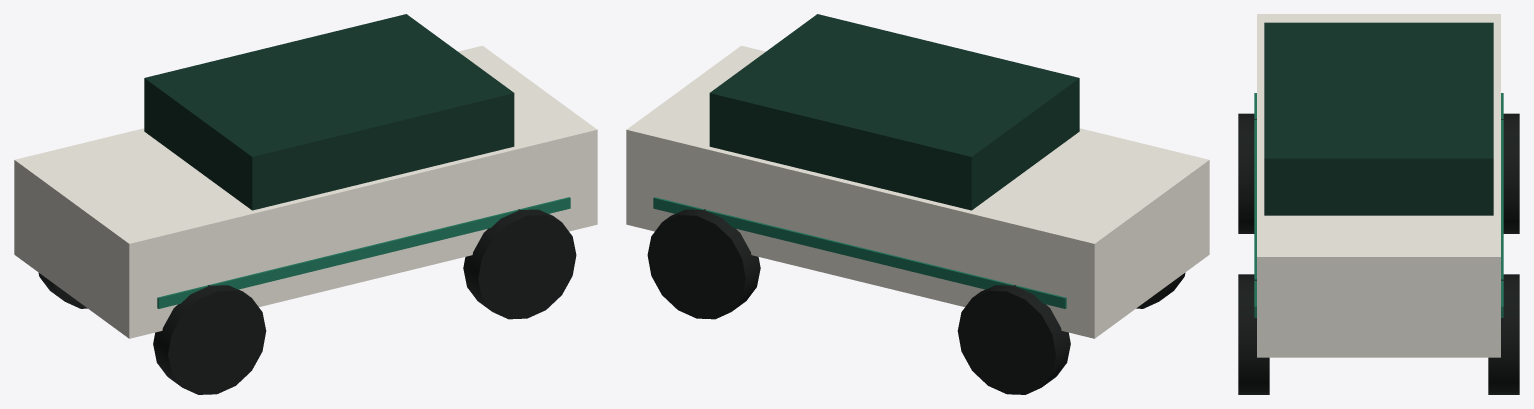
The model's file is prado.glb.
3 renders of one model, left to right at view 1: azimuth 30°, elevation 25°; view 2: azimuth 150°, elevation 25°; view 3: azimuth 270°, elevation 25°, orthographic. The views are drawn at different scales.
Bounding box in the file's own units: 4 × 1.77 × 1.96.
